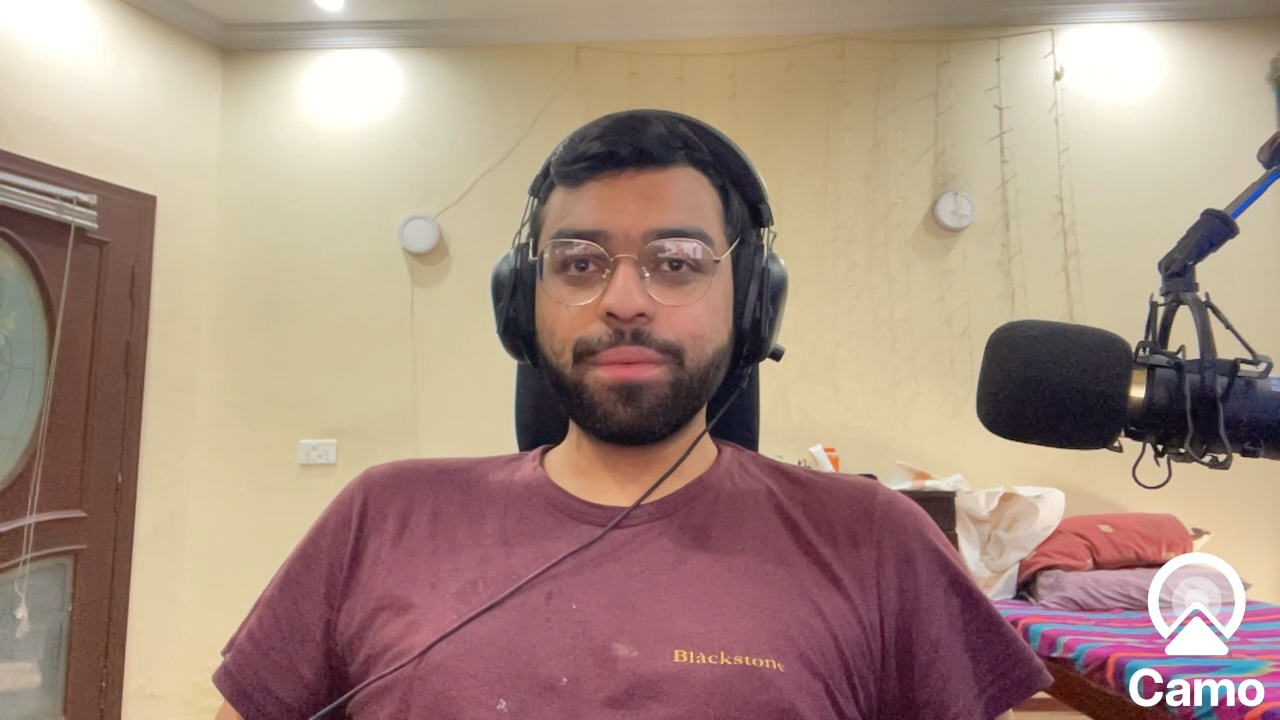surprised: (526, 160, 732, 440)
